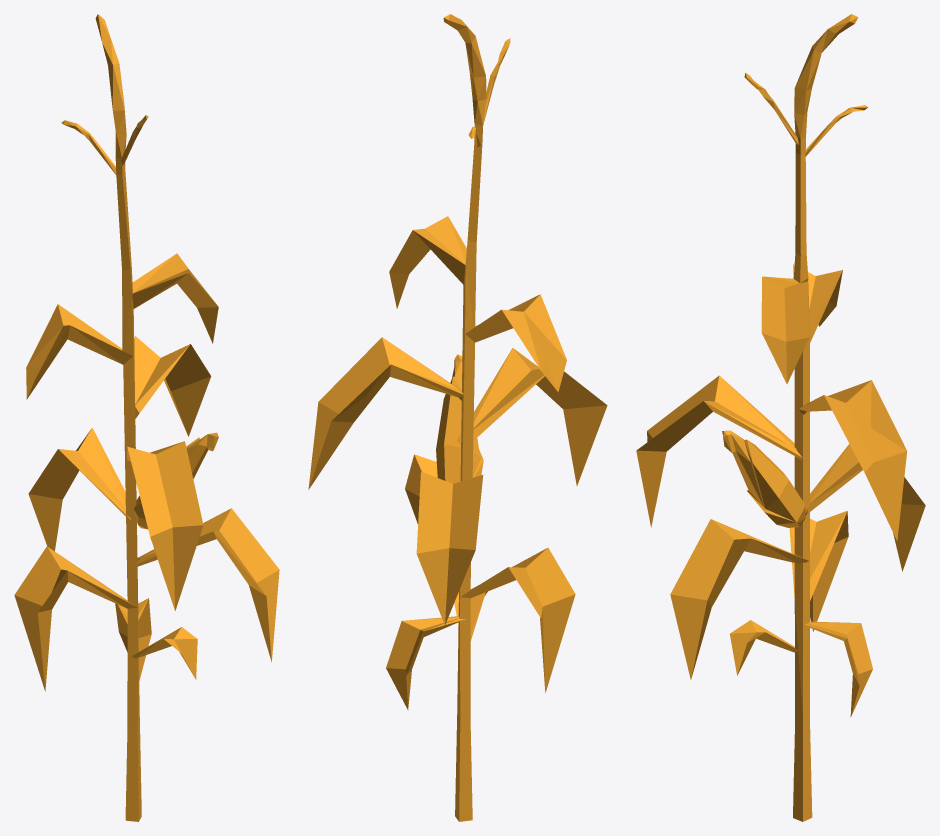
Rendered from SM_Corn_Ripe_Fieldcorn_B.fbx.
The picture shows the model from 3 angles, left to right: view 1: azimuth 30°, elevation 25°; view 2: azimuth 150°, elevation 25°; view 3: azimuth 270°, elevation 25°; orthographic projection. The views are drawn at different scales.
Parts seen in each view (by area): view 1: corn-ripe-fieldcorn-b; view 2: corn-ripe-fieldcorn-b; view 3: corn-ripe-fieldcorn-b.
Boxes of the visible parts, x1,y1,x2,y2 form: corn-ripe-fieldcorn-b: [14, 14, 279, 821]; corn-ripe-fieldcorn-b: [308, 14, 607, 821]; corn-ripe-fieldcorn-b: [636, 14, 925, 821].
Size of the model in its own units: 0.6237 by 2.24 by 0.7367.
